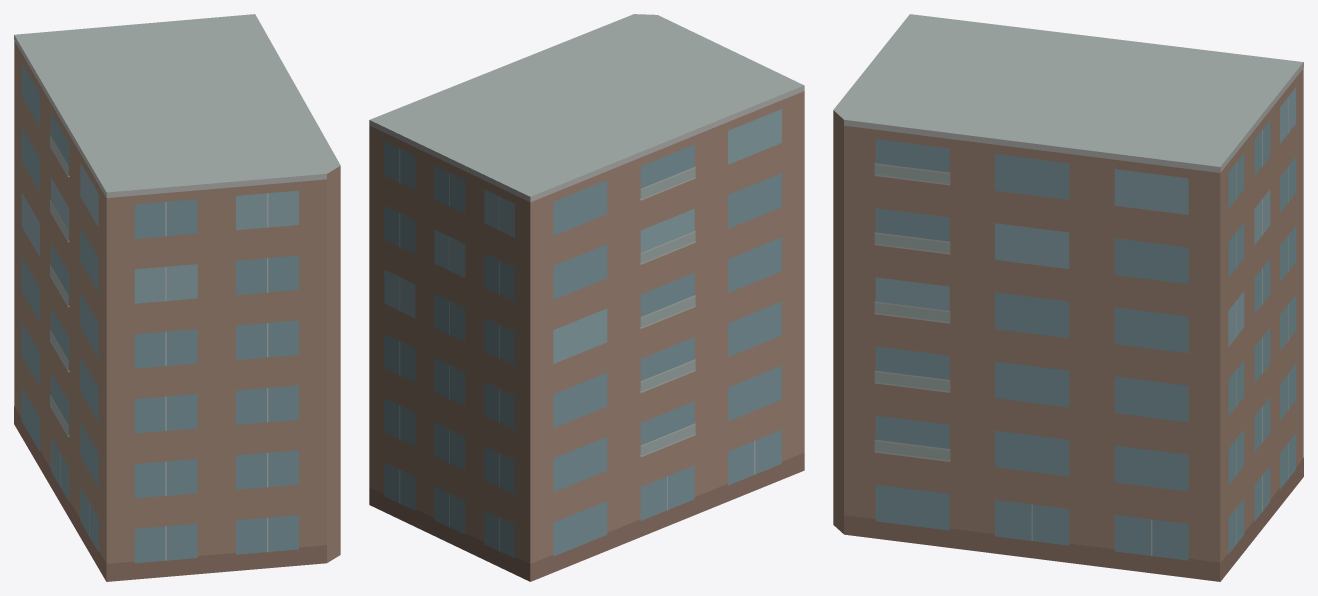
File: survey-upis-32877551.glb
The picture shows the model from 3 angles, left to right: view 1: azimuth 30°, elevation 25°; view 2: azimuth 150°, elevation 25°; view 3: azimuth 270°, elevation 25°; orthographic projection. The views are drawn at different scales.
Parts seen in each view (by area): view 1: survey-upis-32877551.tmp; view 2: survey-upis-32877551.tmp; view 3: survey-upis-32877551.tmp.
Part boxes in pixels (x1,y1,x2,y2): survey-upis-32877551.tmp: [14, 14, 340, 581]; survey-upis-32877551.tmp: [369, 14, 804, 581]; survey-upis-32877551.tmp: [833, 14, 1303, 581].
Size of the model in its own units: 13.54 by 17.1 by 17.59.
